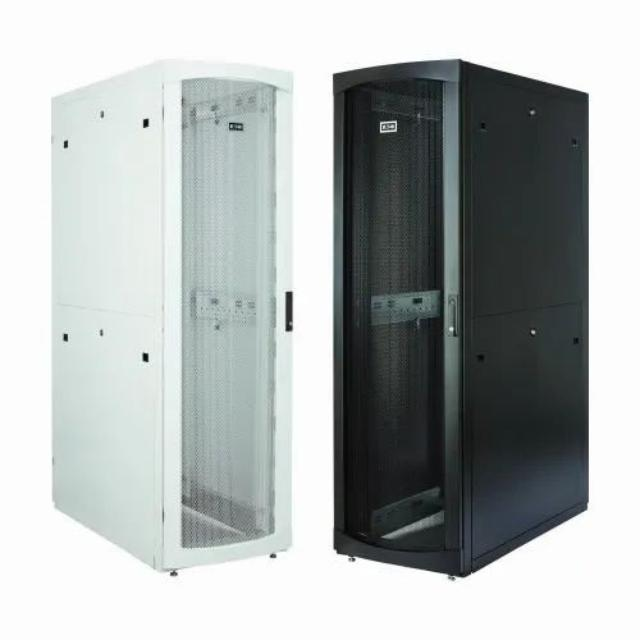Server: (330, 50, 596, 578), (44, 54, 292, 584)
